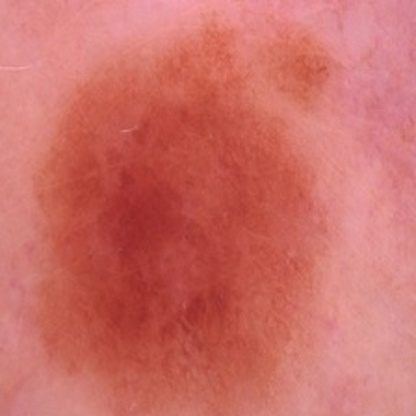benign: (54, 77, 300, 382)
